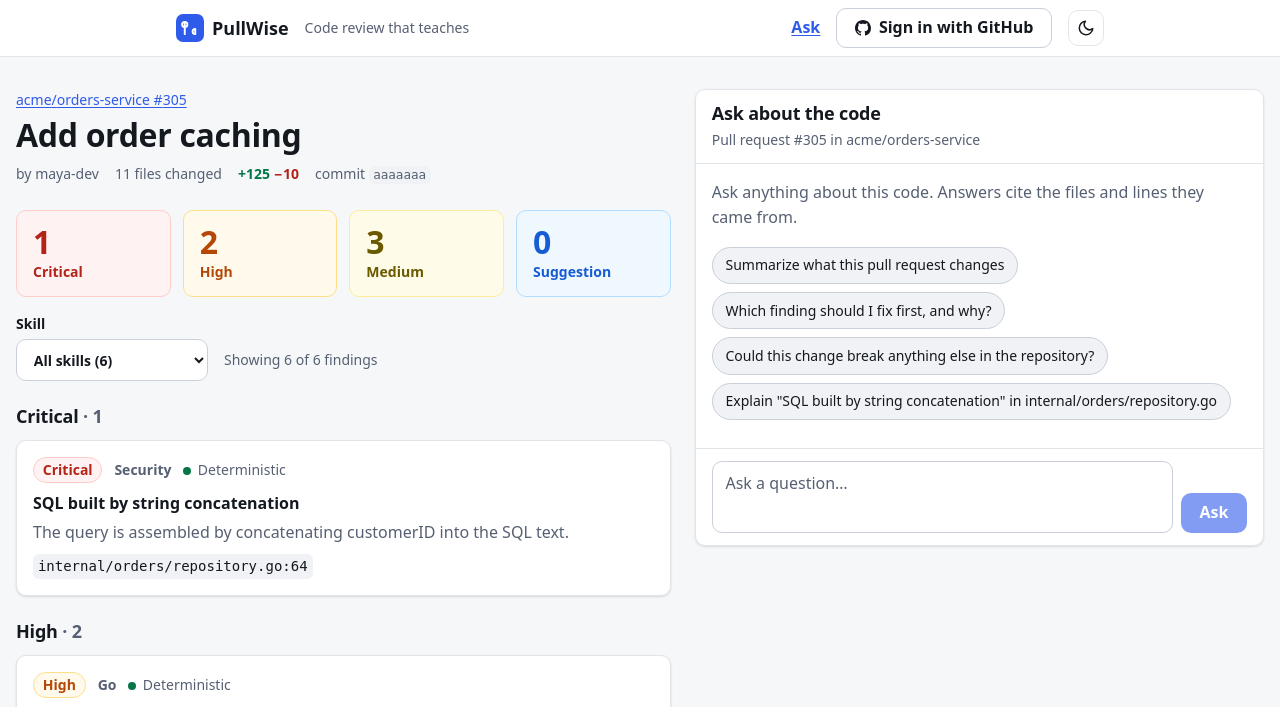
Review page › answers a question about the review without leaving the findings
Expected: the element named "Filter findings by severity" is shown, [16, 210, 671, 297]
Type "Is this safe?" into the text box named "Your question". click: (942, 497)
box: [712, 461, 1173, 533]
Then press Enter
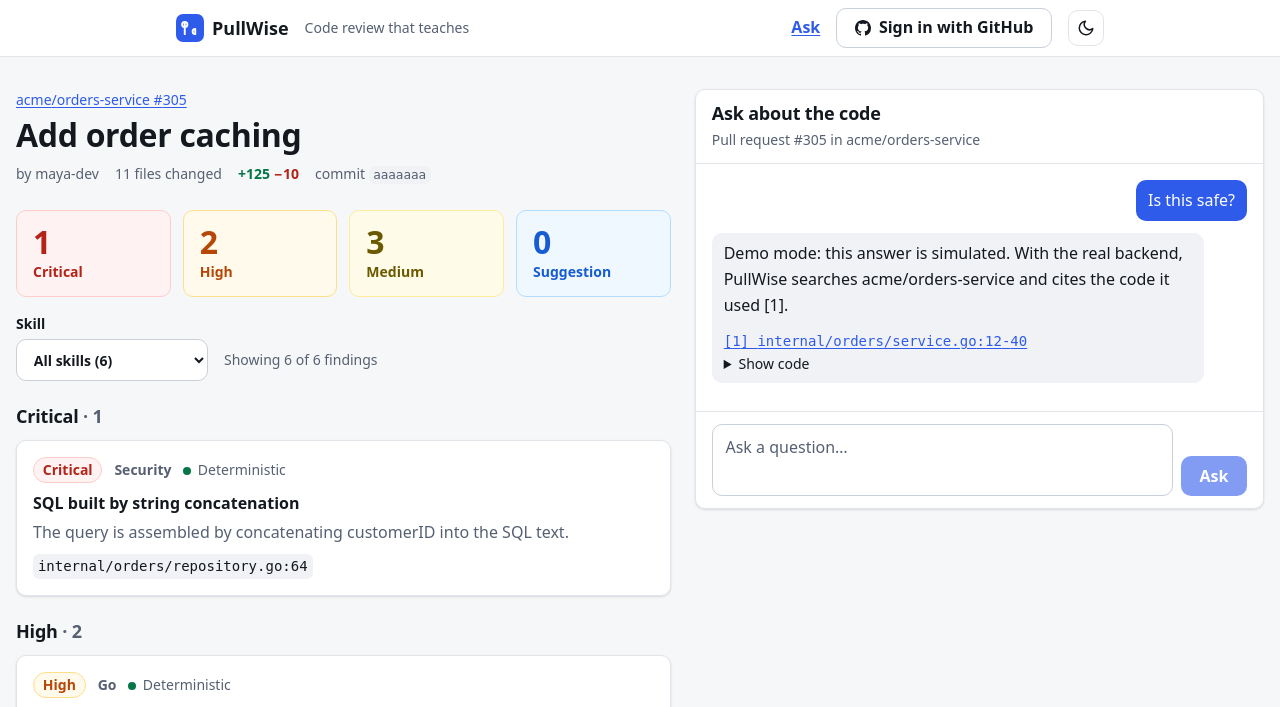
Expected: the element named "Filter findings by severity" is shown, [16, 210, 671, 297]
Now the text "Demo mode: this answer is simulated" is shown, box [724, 242, 1183, 316]
